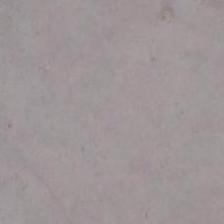Non_Crack: (2, 9, 224, 210)
